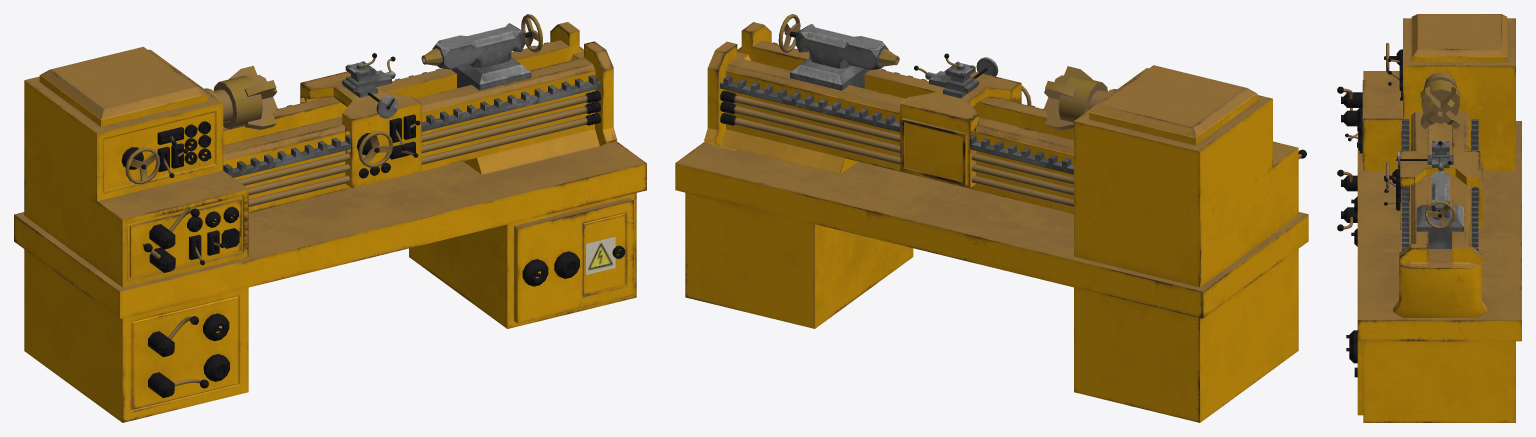
3 renders of one model, left to right at view 1: azimuth 30°, elevation 25°; view 2: azimuth 150°, elevation 25°; view 3: azimuth 270°, elevation 25°, orthographic. The views are drawn at different scales.
Parts seen in each view (by area): view 1: MacchinarioRovinato_0; view 2: MacchinarioRovinato_0; view 3: MacchinarioRovinato_0.
Boxes of the visible parts, <box> form: MacchinarioRovinato_0: <box>14,14,646,422</box>; MacchinarioRovinato_0: <box>675,14,1308,422</box>; MacchinarioRovinato_0: <box>1337,14,1521,422</box>.
Size of the model in its own units: 5.3 by 2.73 by 2.07.
Materials: 1 (1 with a texture image).
